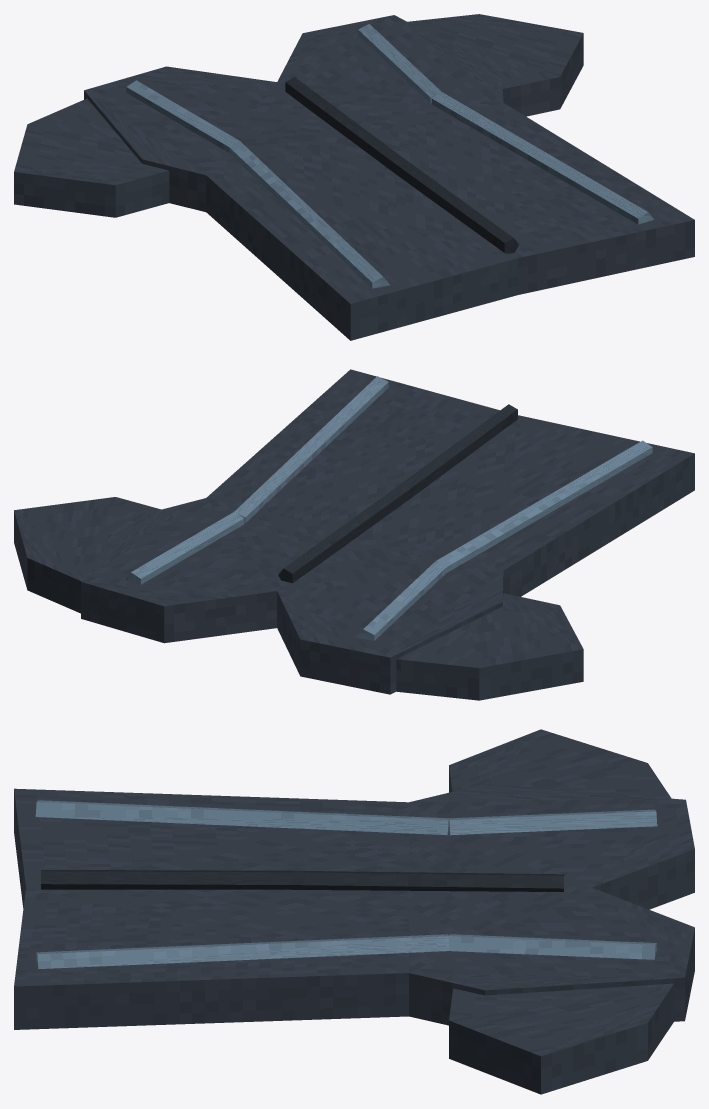
Rendered from wetsuit_top.glb.
3 renders of one model, top to bottom at view 1: azimuth 30°, elevation 25°; view 2: azimuth 150°, elevation 25°; view 3: azimuth 270°, elevation 25°, orthographic. The views are drawn at different scales.
Visible parts, largest first — view 1: block_garment body, block_sleeve (×2), block_bonded neoprene seam 1 (×2), block_bonded neoprene seam 0 (×2), block_front closure 1, block_front closure 0; view 2: block_garment body, block_sleeve (×2), block_bonded neoprene seam 1 (×2), block_bonded neoprene seam 0 (×2), block_front closure 0, block_front closure 1; view 3: block_garment body, block_sleeve (×2), block_bonded neoprene seam 1 (×2), block_bonded neoprene seam 0 (×2), block_front closure 0, block_front closure 1.
Boxes of the visible parts, bbox=[...] form: block_garment body: bbox=[84, 15, 694, 340]; block_sleeve (×2): bbox=[14, 14, 583, 217]; block_bonded neoprene seam 1 (×2): bbox=[229, 92, 653, 288]; block_bonded neoprene seam 0 (×2): bbox=[126, 24, 441, 152]; block_front closure 1: bbox=[398, 161, 519, 253]; block_front closure 0: bbox=[285, 77, 406, 175]; block_garment body: bbox=[81, 369, 694, 694]; block_sleeve (×2): bbox=[14, 497, 583, 700]; block_bonded neoprene seam 1 (×2): bbox=[234, 376, 652, 572]; block_bonded neoprene seam 0 (×2): bbox=[125, 511, 446, 640]; block_front closure 0: bbox=[278, 483, 410, 583]; block_front closure 1: bbox=[402, 404, 517, 497]; block_garment body: bbox=[14, 784, 694, 1029]; block_sleeve (×2): bbox=[449, 729, 673, 1094]; block_bonded neoprene seam 1 (×2): bbox=[35, 800, 448, 968]; block_bonded neoprene seam 0 (×2): bbox=[449, 809, 657, 959]; block_front closure 0: bbox=[292, 870, 564, 891]; block_front closure 1: bbox=[41, 870, 291, 889].
Bounding box in the file's own units: 0.5369 × 0.0468 × 0.4724.
Materials: 1 (1 with a texture image).
